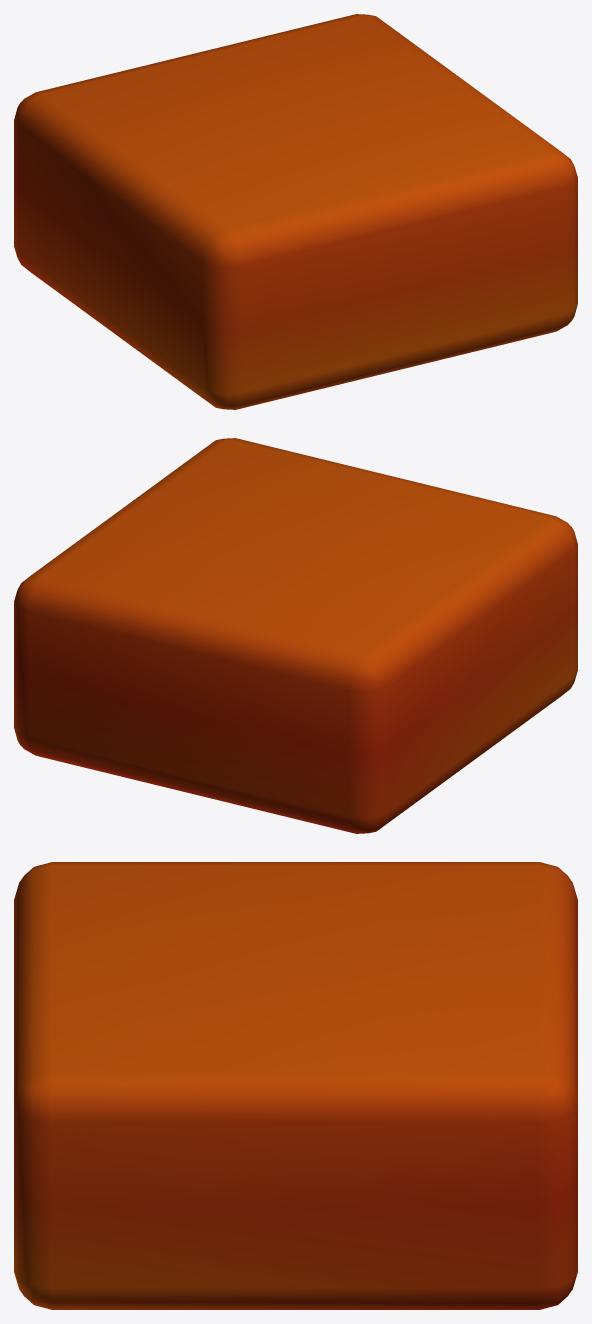
Rendered from clay.fbx.
3 views of the same model, one above another, from view 1: azimuth 30°, elevation 25°; view 2: azimuth 150°, elevation 25°; view 3: azimuth 270°, elevation 25° (orthographic). The views are drawn at different scales.
Visible parts, largest first — view 1: Cube.006; view 2: Cube.006; view 3: Cube.006.
Boxes of the visible parts, x1,y1,x2,y2 form: Cube.006: (14, 14, 577, 409); Cube.006: (14, 438, 577, 833); Cube.006: (14, 862, 577, 1309).
Size of the model in its own units: 37.25 by 17.13 by 37.25.
1 material, 1 textured.
